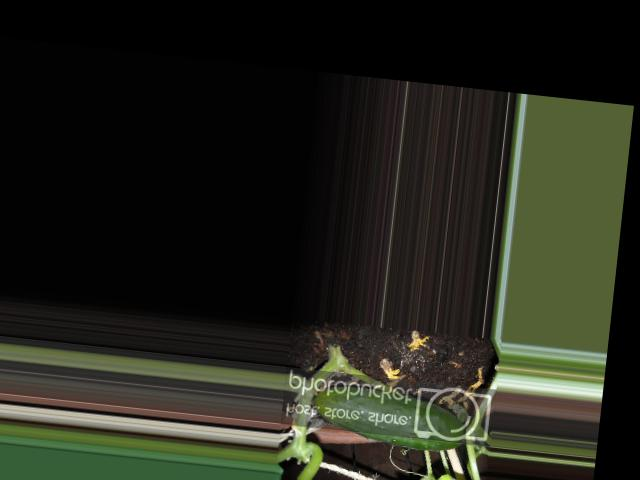cucumber: (311, 381, 468, 453)
